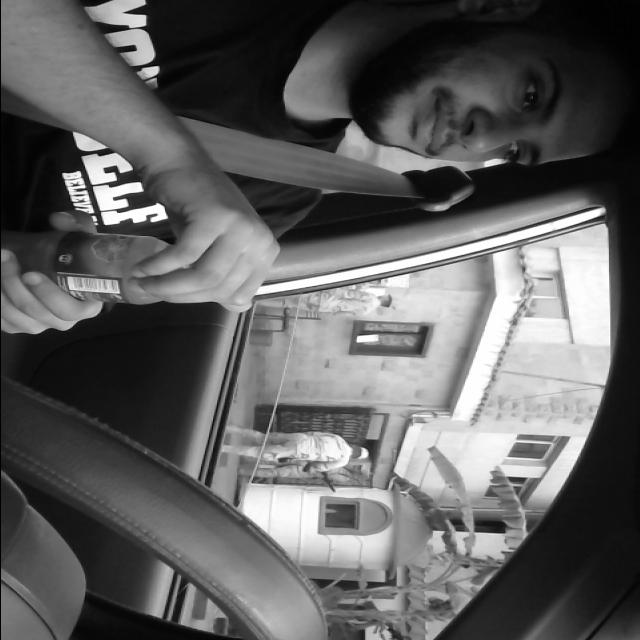drinking: (0, 230, 221, 316)
